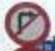Cam re: (6, 3, 48, 45)
